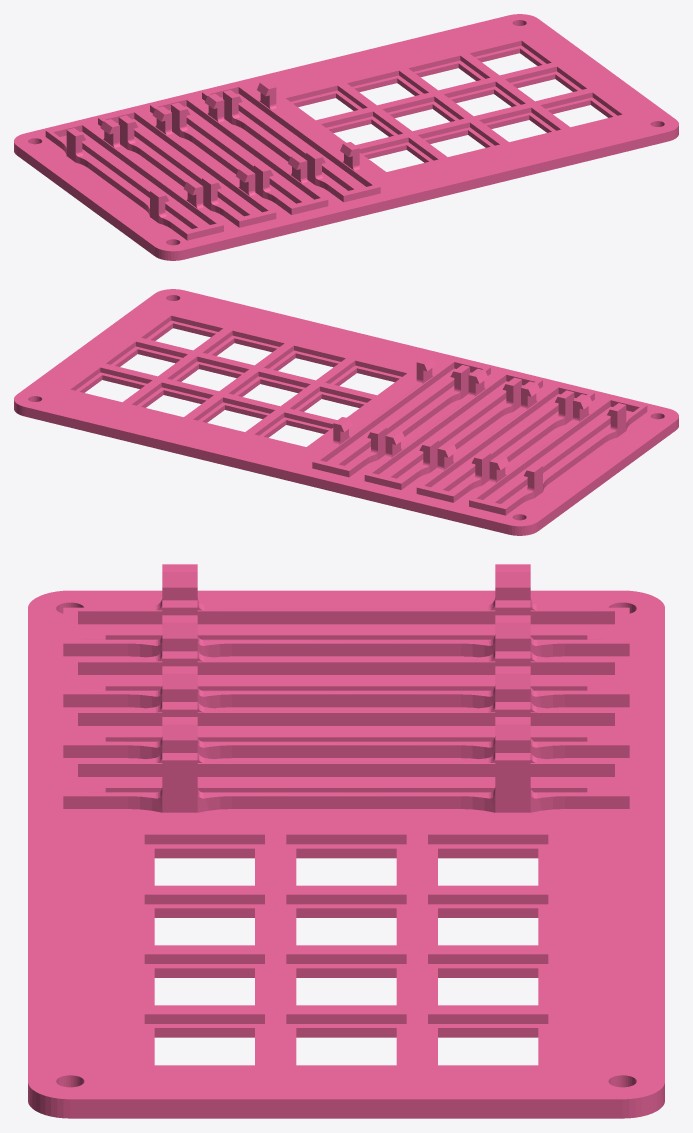
File: tinker.obj
3 views of the same model, one above another, from view 1: azimuth 30°, elevation 25°; view 2: azimuth 150°, elevation 25°; view 3: azimuth 270°, elevation 25° (orthographic). The views are drawn at different scales.
Visible parts, largest first — view 1: obj_0; view 2: obj_0; view 3: obj_0.
Boxes of the visible parts, left/top/right/bottom form: obj_0: left=14, top=14, right=678, bottom=260; obj_0: left=14, top=289, right=678, bottom=535; obj_0: left=28, top=564, right=664, bottom=1118.
Bounding box in the file's own units: 170 × 11.15 × 90.
